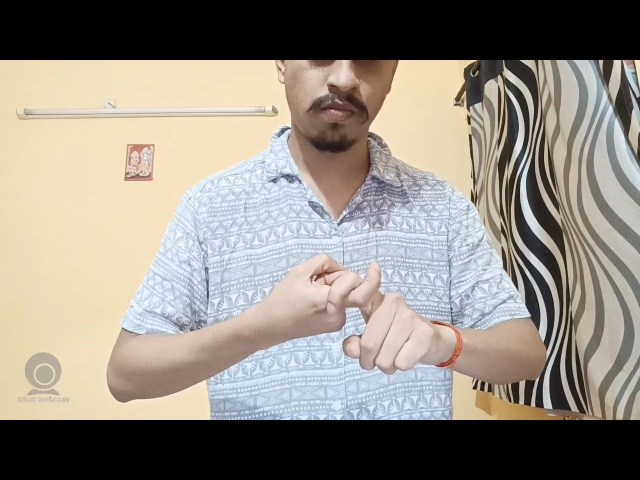Friend: (244, 217, 468, 399)
